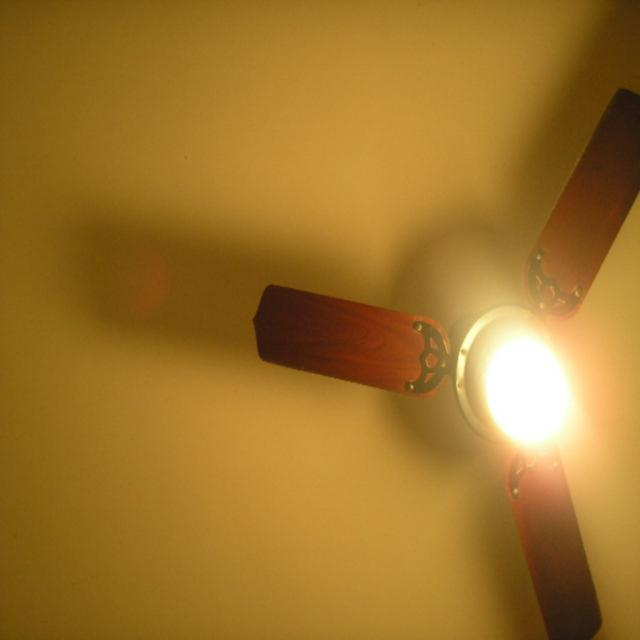Bulb: (250, 86, 639, 638)
